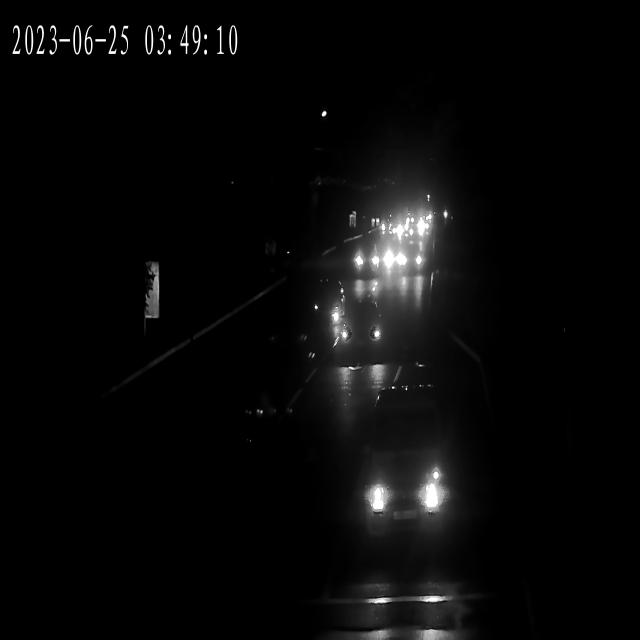Car: (354, 450, 452, 541), (332, 307, 385, 363), (310, 277, 347, 322), (346, 245, 382, 278), (393, 247, 427, 274), (381, 245, 398, 276), (403, 222, 429, 242), (386, 212, 402, 237), (380, 224, 404, 240), (403, 218, 421, 237), (419, 214, 433, 233)
